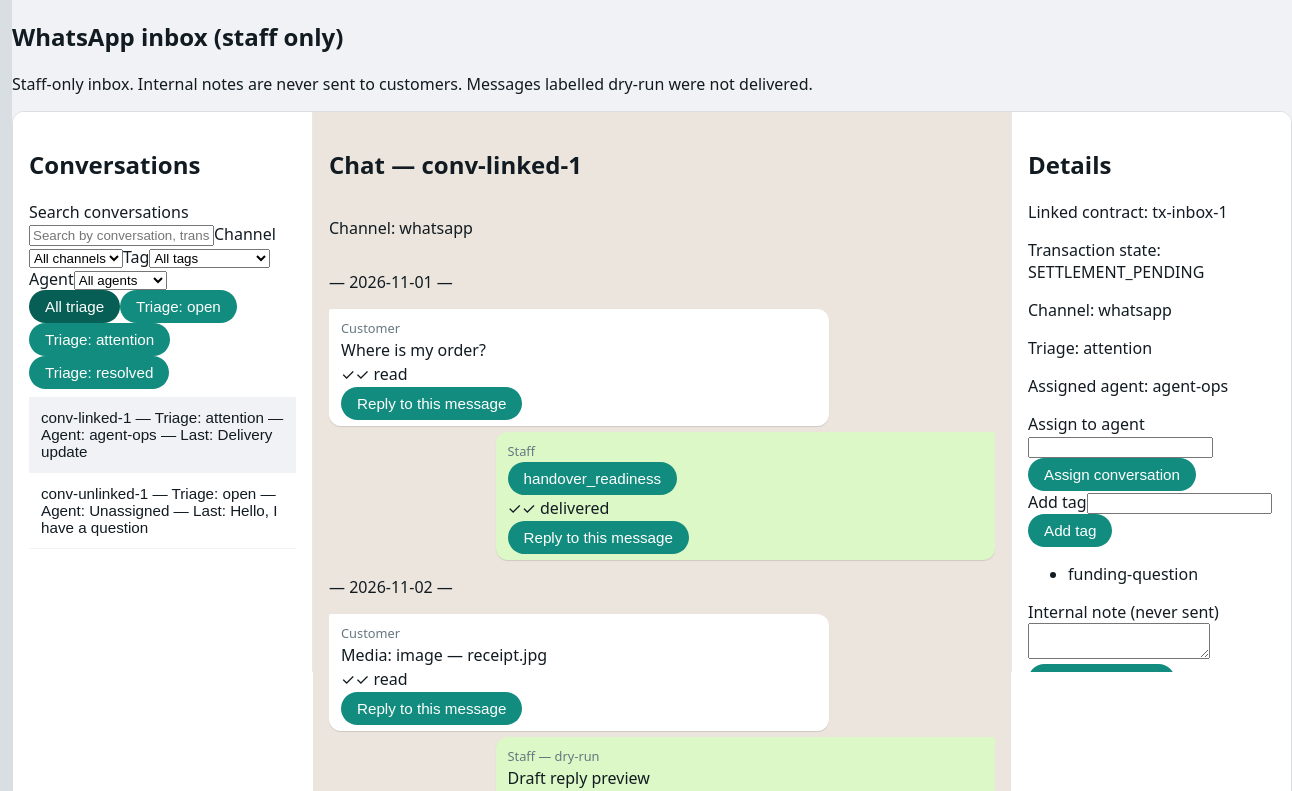
Test: inbox triptych (Sprint 4, PB-13) › search filters conversations, and triage chips filter by triage
The image size is (1292, 791).
Type "unlinked" into the field labelled "Search conversations" at [122, 235], box [29,225,214,246]
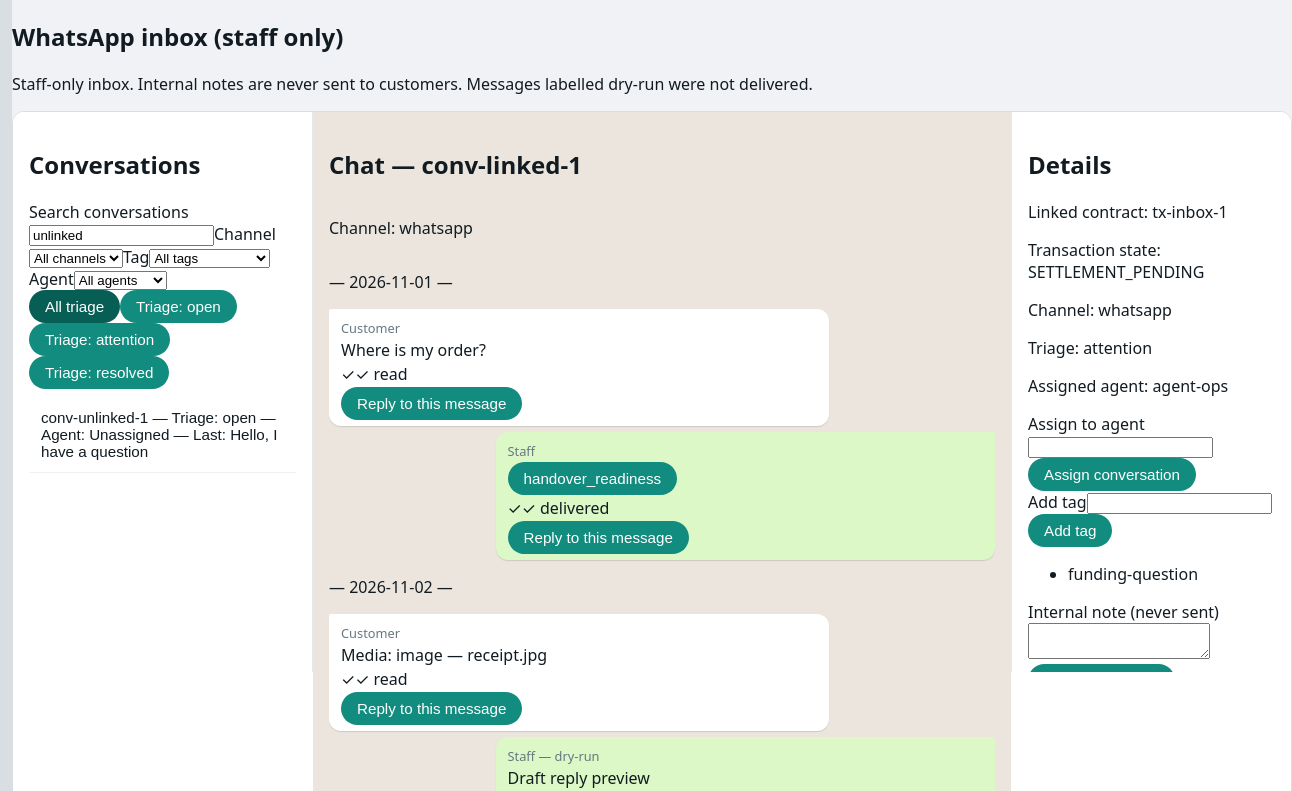
Expected: the button "conv-unlinked-1 —" is shown, [29,397,296,473]
Expected: the button "conv-linked-1 —" is gone
Clear the field labelled "Search conversations" at [122, 235], box [29,225,214,246]
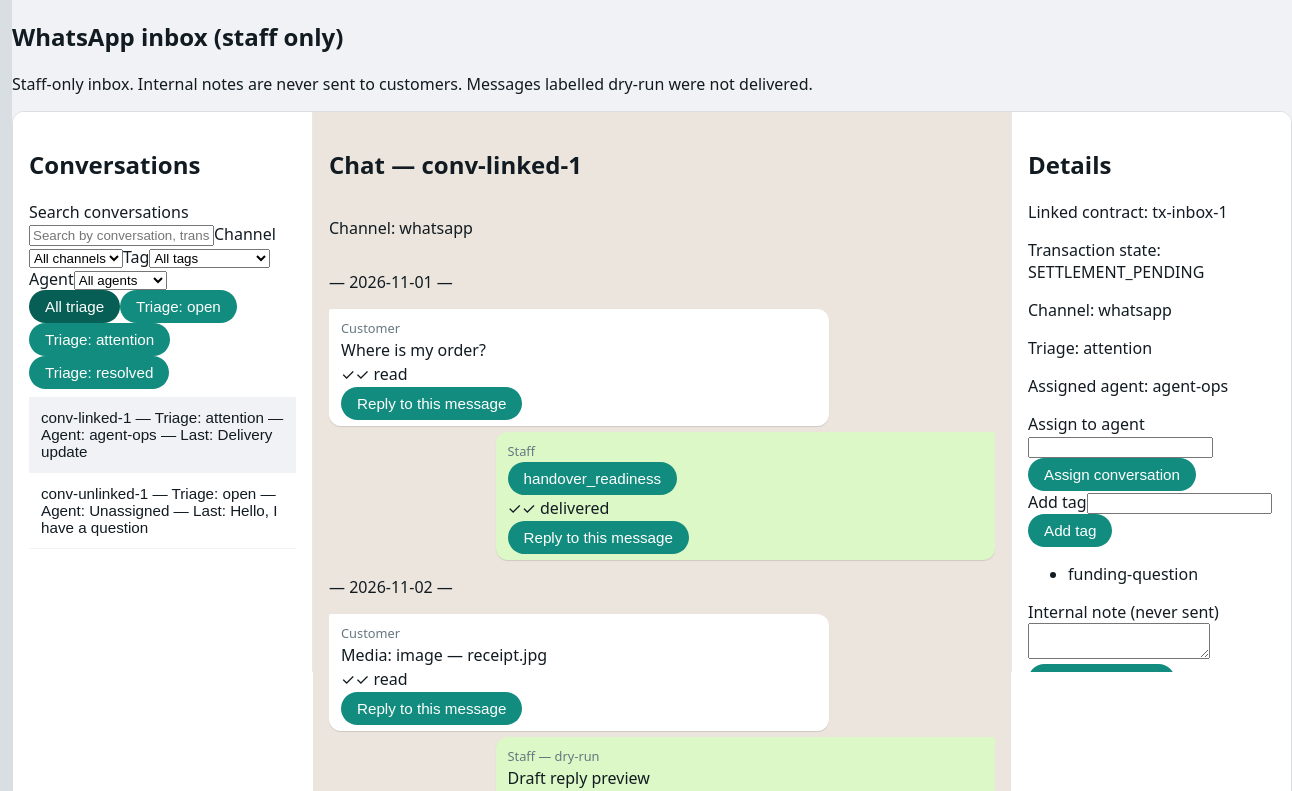
Click the button "Triage: attention" at [100, 339], box [29,323,170,356]
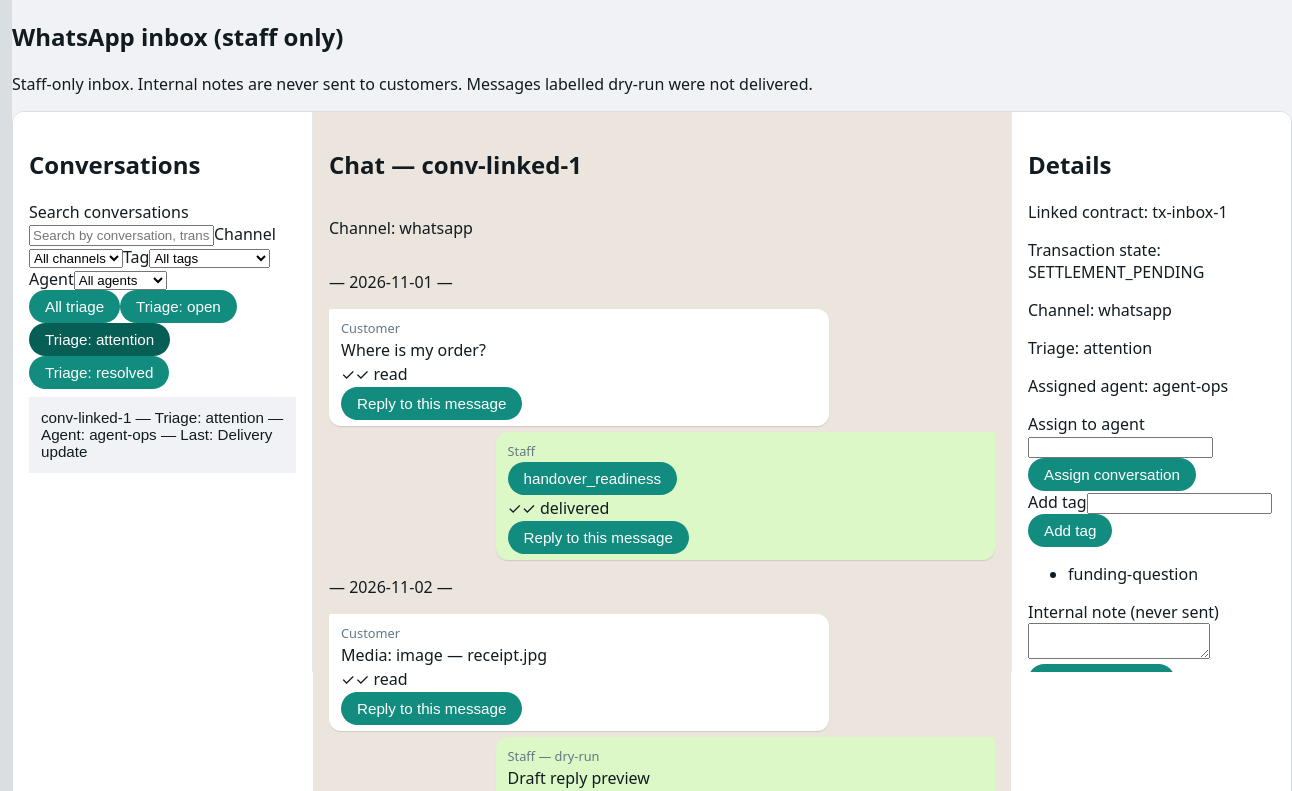
Expected: the button "conv-linked-1 —" is shown, [29,397,296,473]
Expected: the button "conv-unlinked-1 —" is gone
